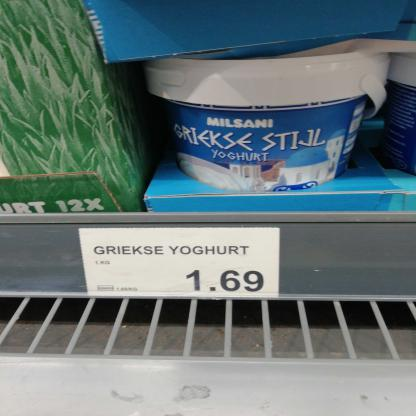prtg: (78, 229, 281, 299)
